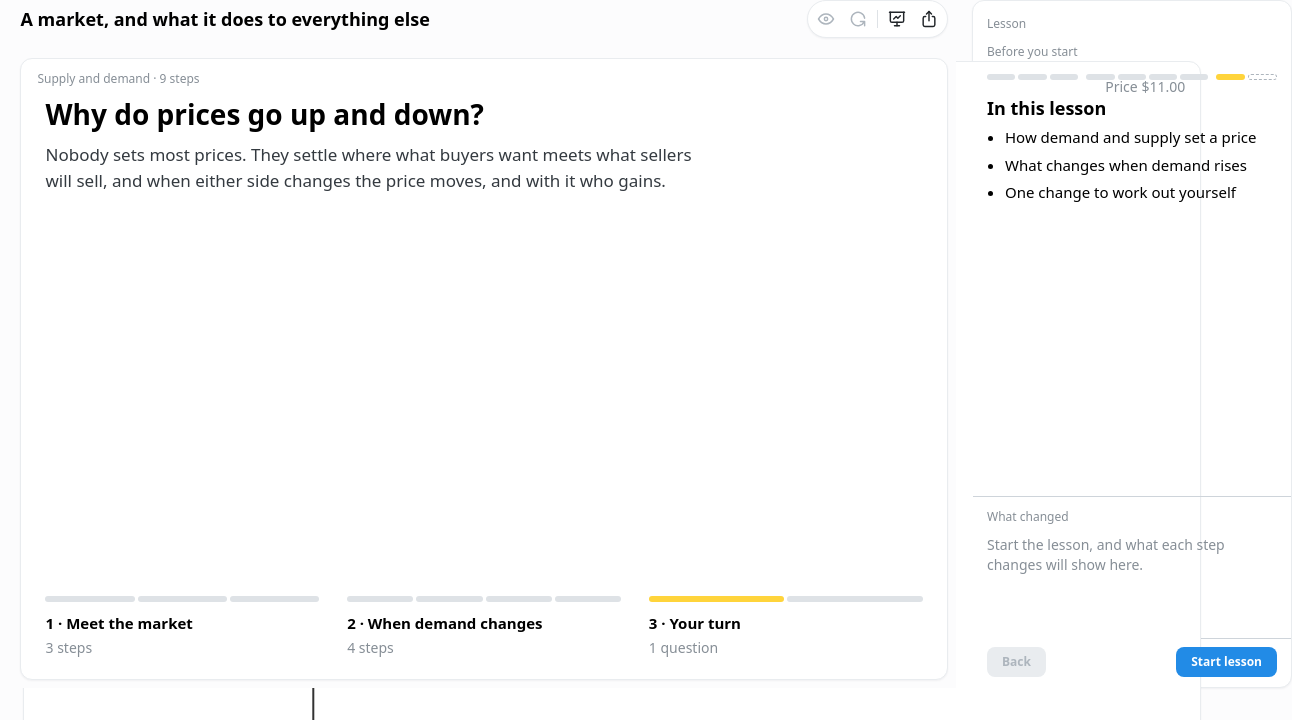
Test: the lesson speaks on its card, and "What changed" reports the numbers › keeps the step's words when the student moves something
Click the button named "Step 6 of 9: What sellers earn".
click(1163, 77)  # box [1149,67,1177,87]
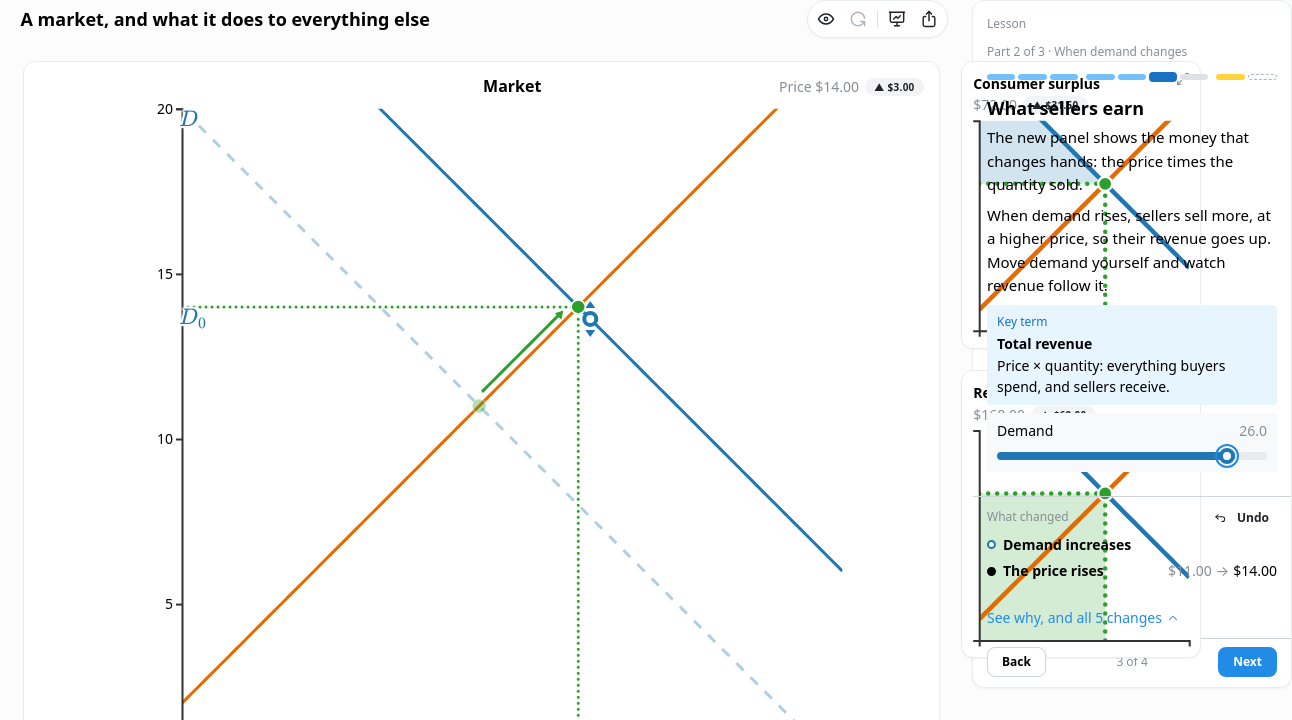
Press ArrowDown in the slider named "Demand", box [1219,448,1235,464]
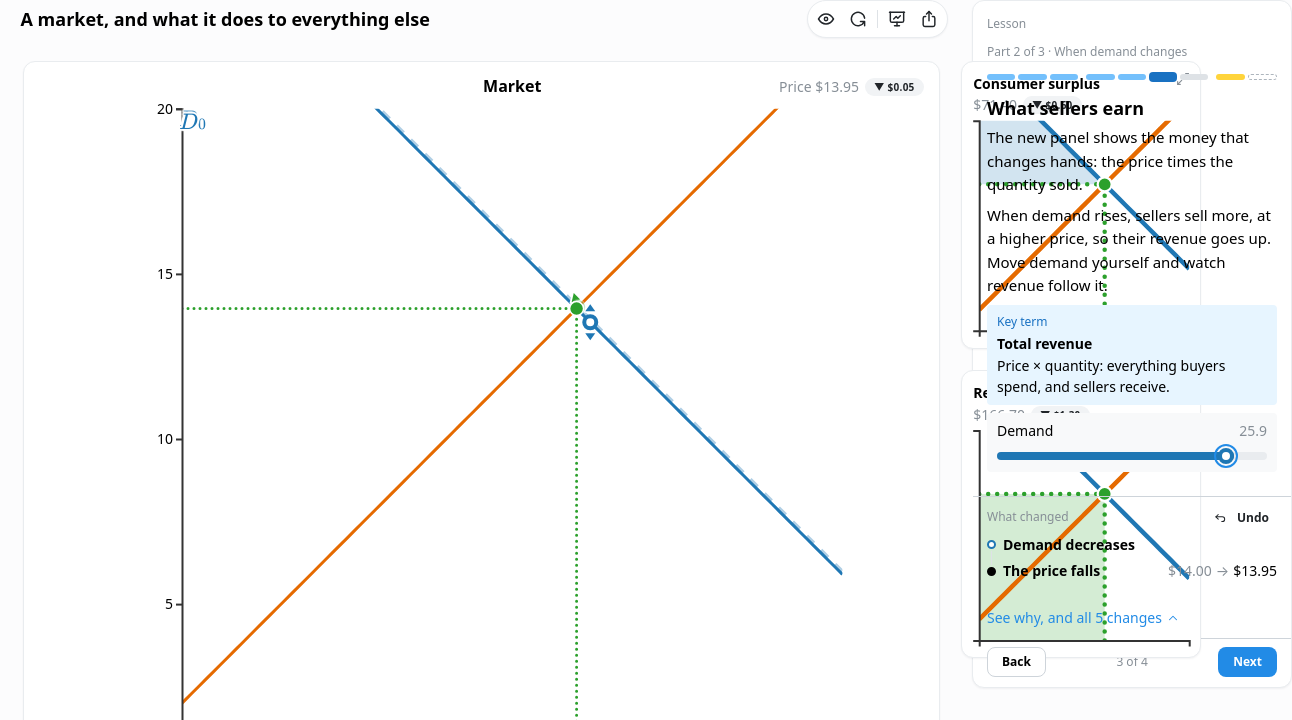
Now the element that starts with "What sellers earn" is shown, box [987,96,1144,120]
Now the text "Demand decreases" is shown, box [1003,535,1135,554]
